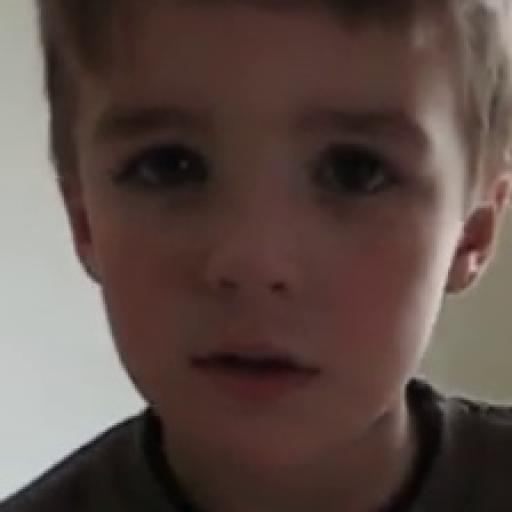Autism: (116, 10, 468, 456)
